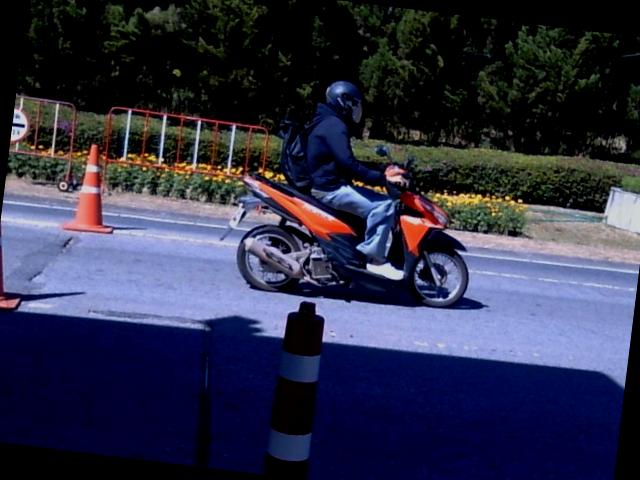helmet: (323, 79, 364, 121)
motor: (220, 171, 468, 307)
person: (305, 81, 407, 279)
